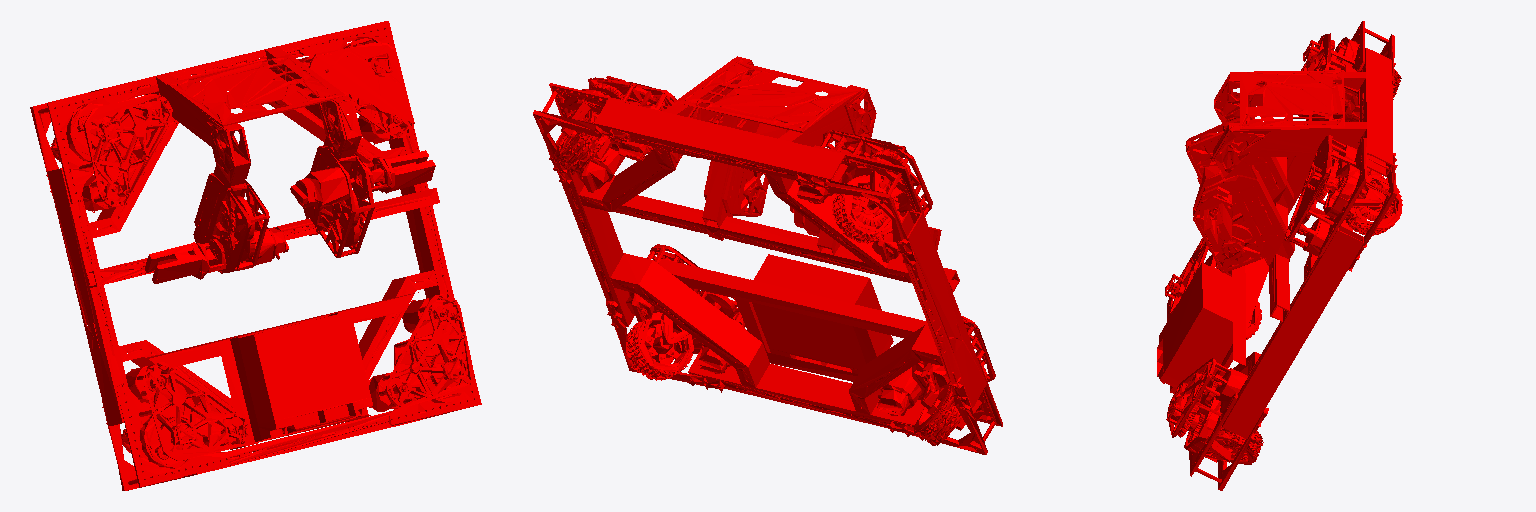
robot.urdf — cubert_1:
<?xml version="1.0"?>
<robot name="cubert_1">

	<link name="base_link_1">
		<visual>
			<origin xyz="0 0 0" rpy="0 0 0" />
			<geometry>
				<mesh filename="package://robot_2024_description/meshes/base_link.stl"/>
			</geometry>
			<material name="Red">
				<color rgba="1 0 0 0.1"/>
			</material>
      	</visual>
   
		<collision>
			<origin xyz="0 0 0" rpy="0 0 0"/>
			<geometry>
				<mesh filename="package://robot_2024_description/meshes/base_link.stl"/>
			</geometry>
		</collision>
	</link>

	<joint name="b2c1" type="fixed">
		<parent link="camera_1_plane"/>
		<child link="base_link_1"/>
		<origin xyz="0.07008632370852994 -0.12291145073927642 -0.3242521119533219" rpy="-0.007984225556421502 1.080362624275041 1.570788528447058"/>
	</joint>

	<link name="camera_1"/>
	<link name="camera_1_plane"/>

	<joint name="camera2camera" type="fixed">
		<parent link="camera_1"/>
		<child link="camera_1_plane"/>
		<origin xyz="0 0 0" rpy="0 0 3.14"/>
	</joint>

</robot>

--- Render facts (derived) ---
The picture shows the robot from 3 angles, left to right: view 1: azimuth 30°, elevation 25°; view 2: azimuth 150°, elevation 25°; view 3: azimuth 270°, elevation 25°; orthographic projection.
Robot: cubert_1 — 3 links, 2 joints (2 fixed); root link camera_1; default pose: all joints at 0.
Visible links, largest first — view 1: base_link_1; view 2: base_link_1; view 3: base_link_1.
Boxes of the visible links, x1,y1,x2,y2 form: base_link_1: [30, 21, 481, 490]; base_link_1: [533, 56, 1002, 454]; base_link_1: [1157, 21, 1402, 490].
Size in the robot's own frame: 0.6102 by 0.4019 by 0.5705 metres.
Meshes: 1 distinct files referenced, 1 mesh visuals loaded (1 binary STL).